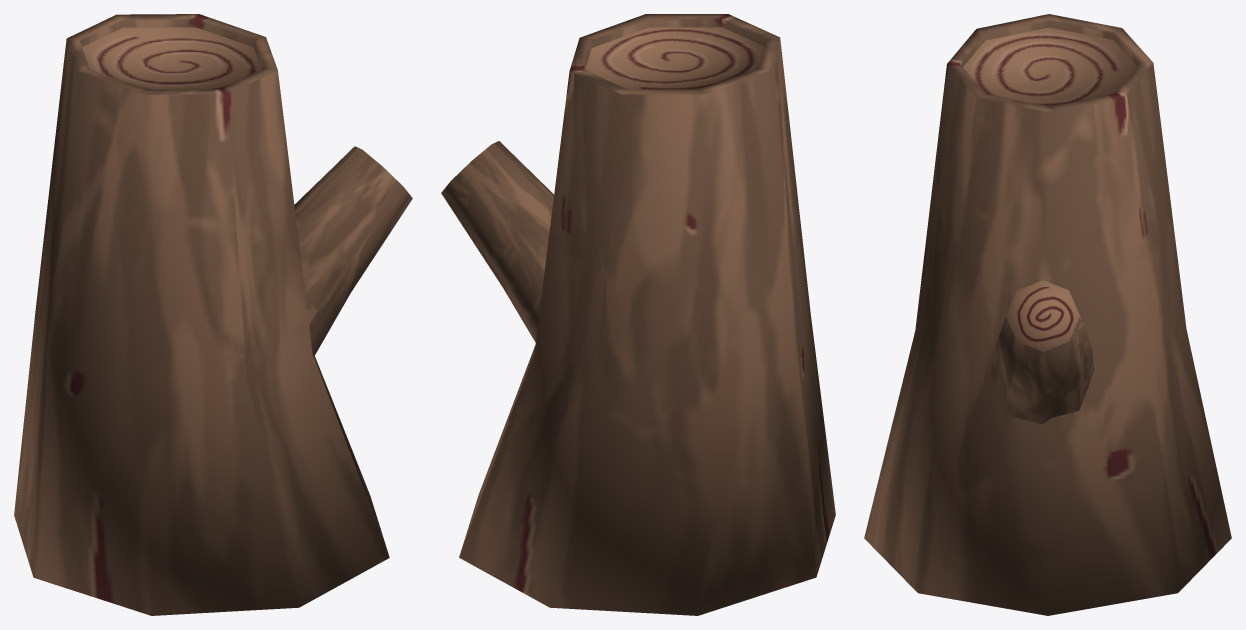
Rendered from log_01.glb.
3 views of the same model, side by side, from view 1: azimuth 30°, elevation 25°; view 2: azimuth 150°, elevation 25°; view 3: azimuth 270°, elevation 25° (orthographic). The views are drawn at different scales.
Visible parts, largest first — view 1: Tree_log.001; view 2: Tree_log.001; view 3: Tree_log.001.
Part boxes in pixels (left/top/right/bottom): Tree_log.001: left=14, top=14, right=412, bottom=615; Tree_log.001: left=441, top=14, right=835, bottom=615; Tree_log.001: left=864, top=14, right=1231, bottom=615.
Size of the model in its own units: 1.6 by 2.05 by 1.46.
1 material, 1 textured.
